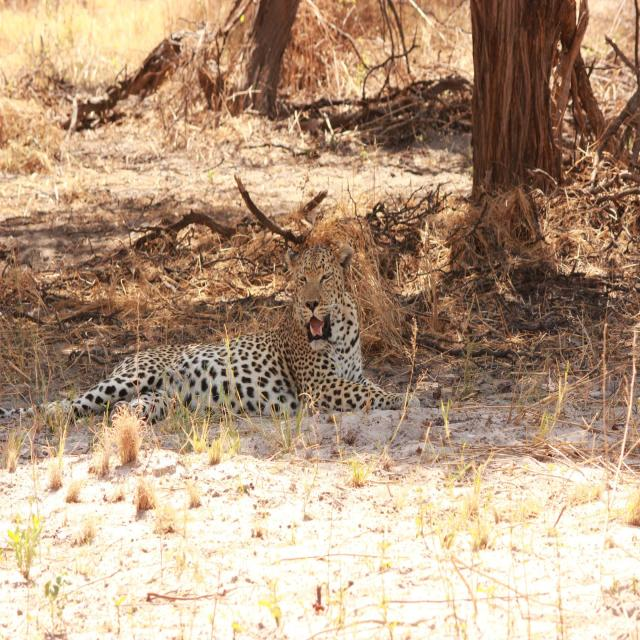Leopard: (27, 258, 441, 480)
